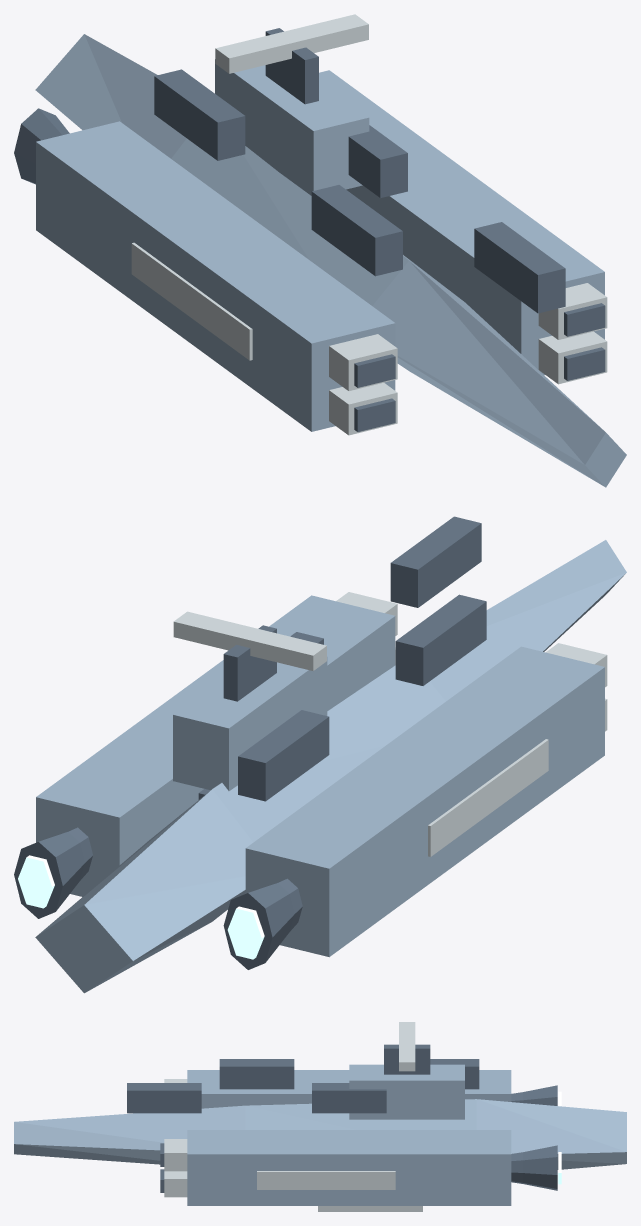
3 renders of one model, top to bottom at view 1: azimuth 30°, elevation 25°; view 2: azimuth 150°, elevation 25°; view 3: azimuth 270°, elevation 25°, orthographic. The views are drawn at different scales.
Size of the model in its own units: 6.52 by 5.13 by 19.71.
